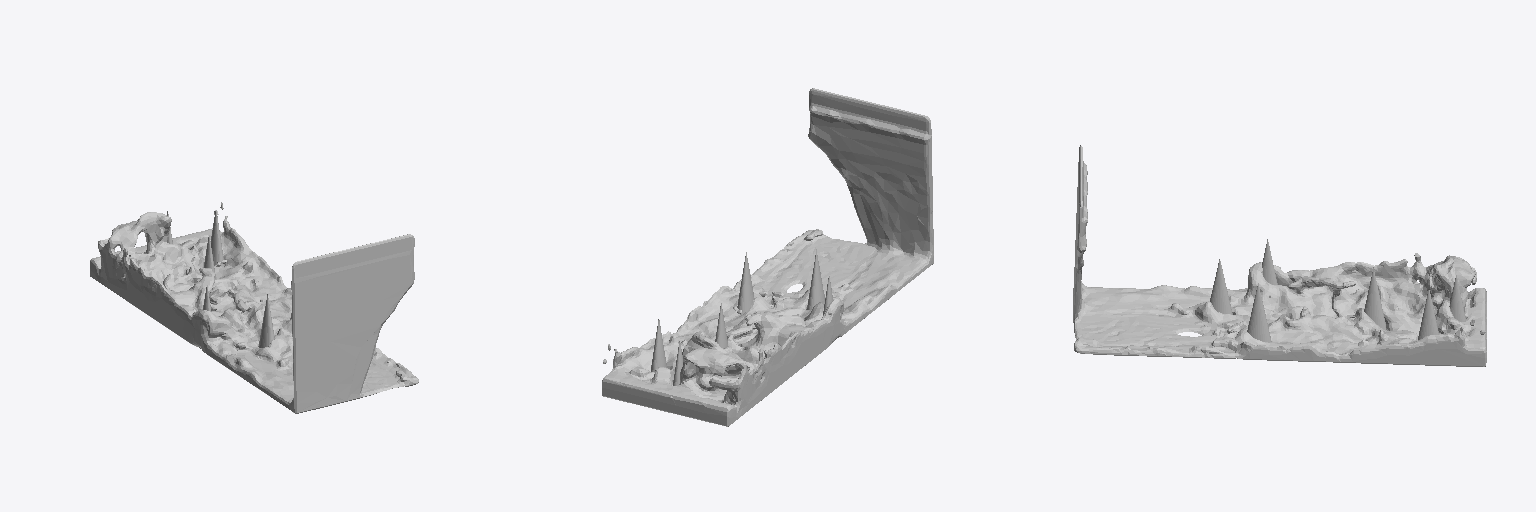
The picture shows the model from 3 angles: view 1: azimuth 30°, elevation 25°; view 2: azimuth 150°, elevation 25°; view 3: azimuth 270°, elevation 25°; orthographic projection.
Visible parts, largest first — view 1: Liquid_Domain; view 2: Liquid_Domain, 円錐.002; view 3: Liquid_Domain, 円錐.002, 円錐.001, 円錐.004.
Part boxes in pixels (x1,y1,x2,y2): Liquid_Domain: (90,202,418,413); Liquid_Domain: (602,88,933,426); 円錐.002: (737,252,753,314); Liquid_Domain: (1073,145,1486,366); 円錐.002: (1247,283,1271,342); 円錐.001: (1210,259,1232,314); 円錐.004: (1364,267,1385,329).
Bounding box in the file's own units: 129 × 158 × 361.